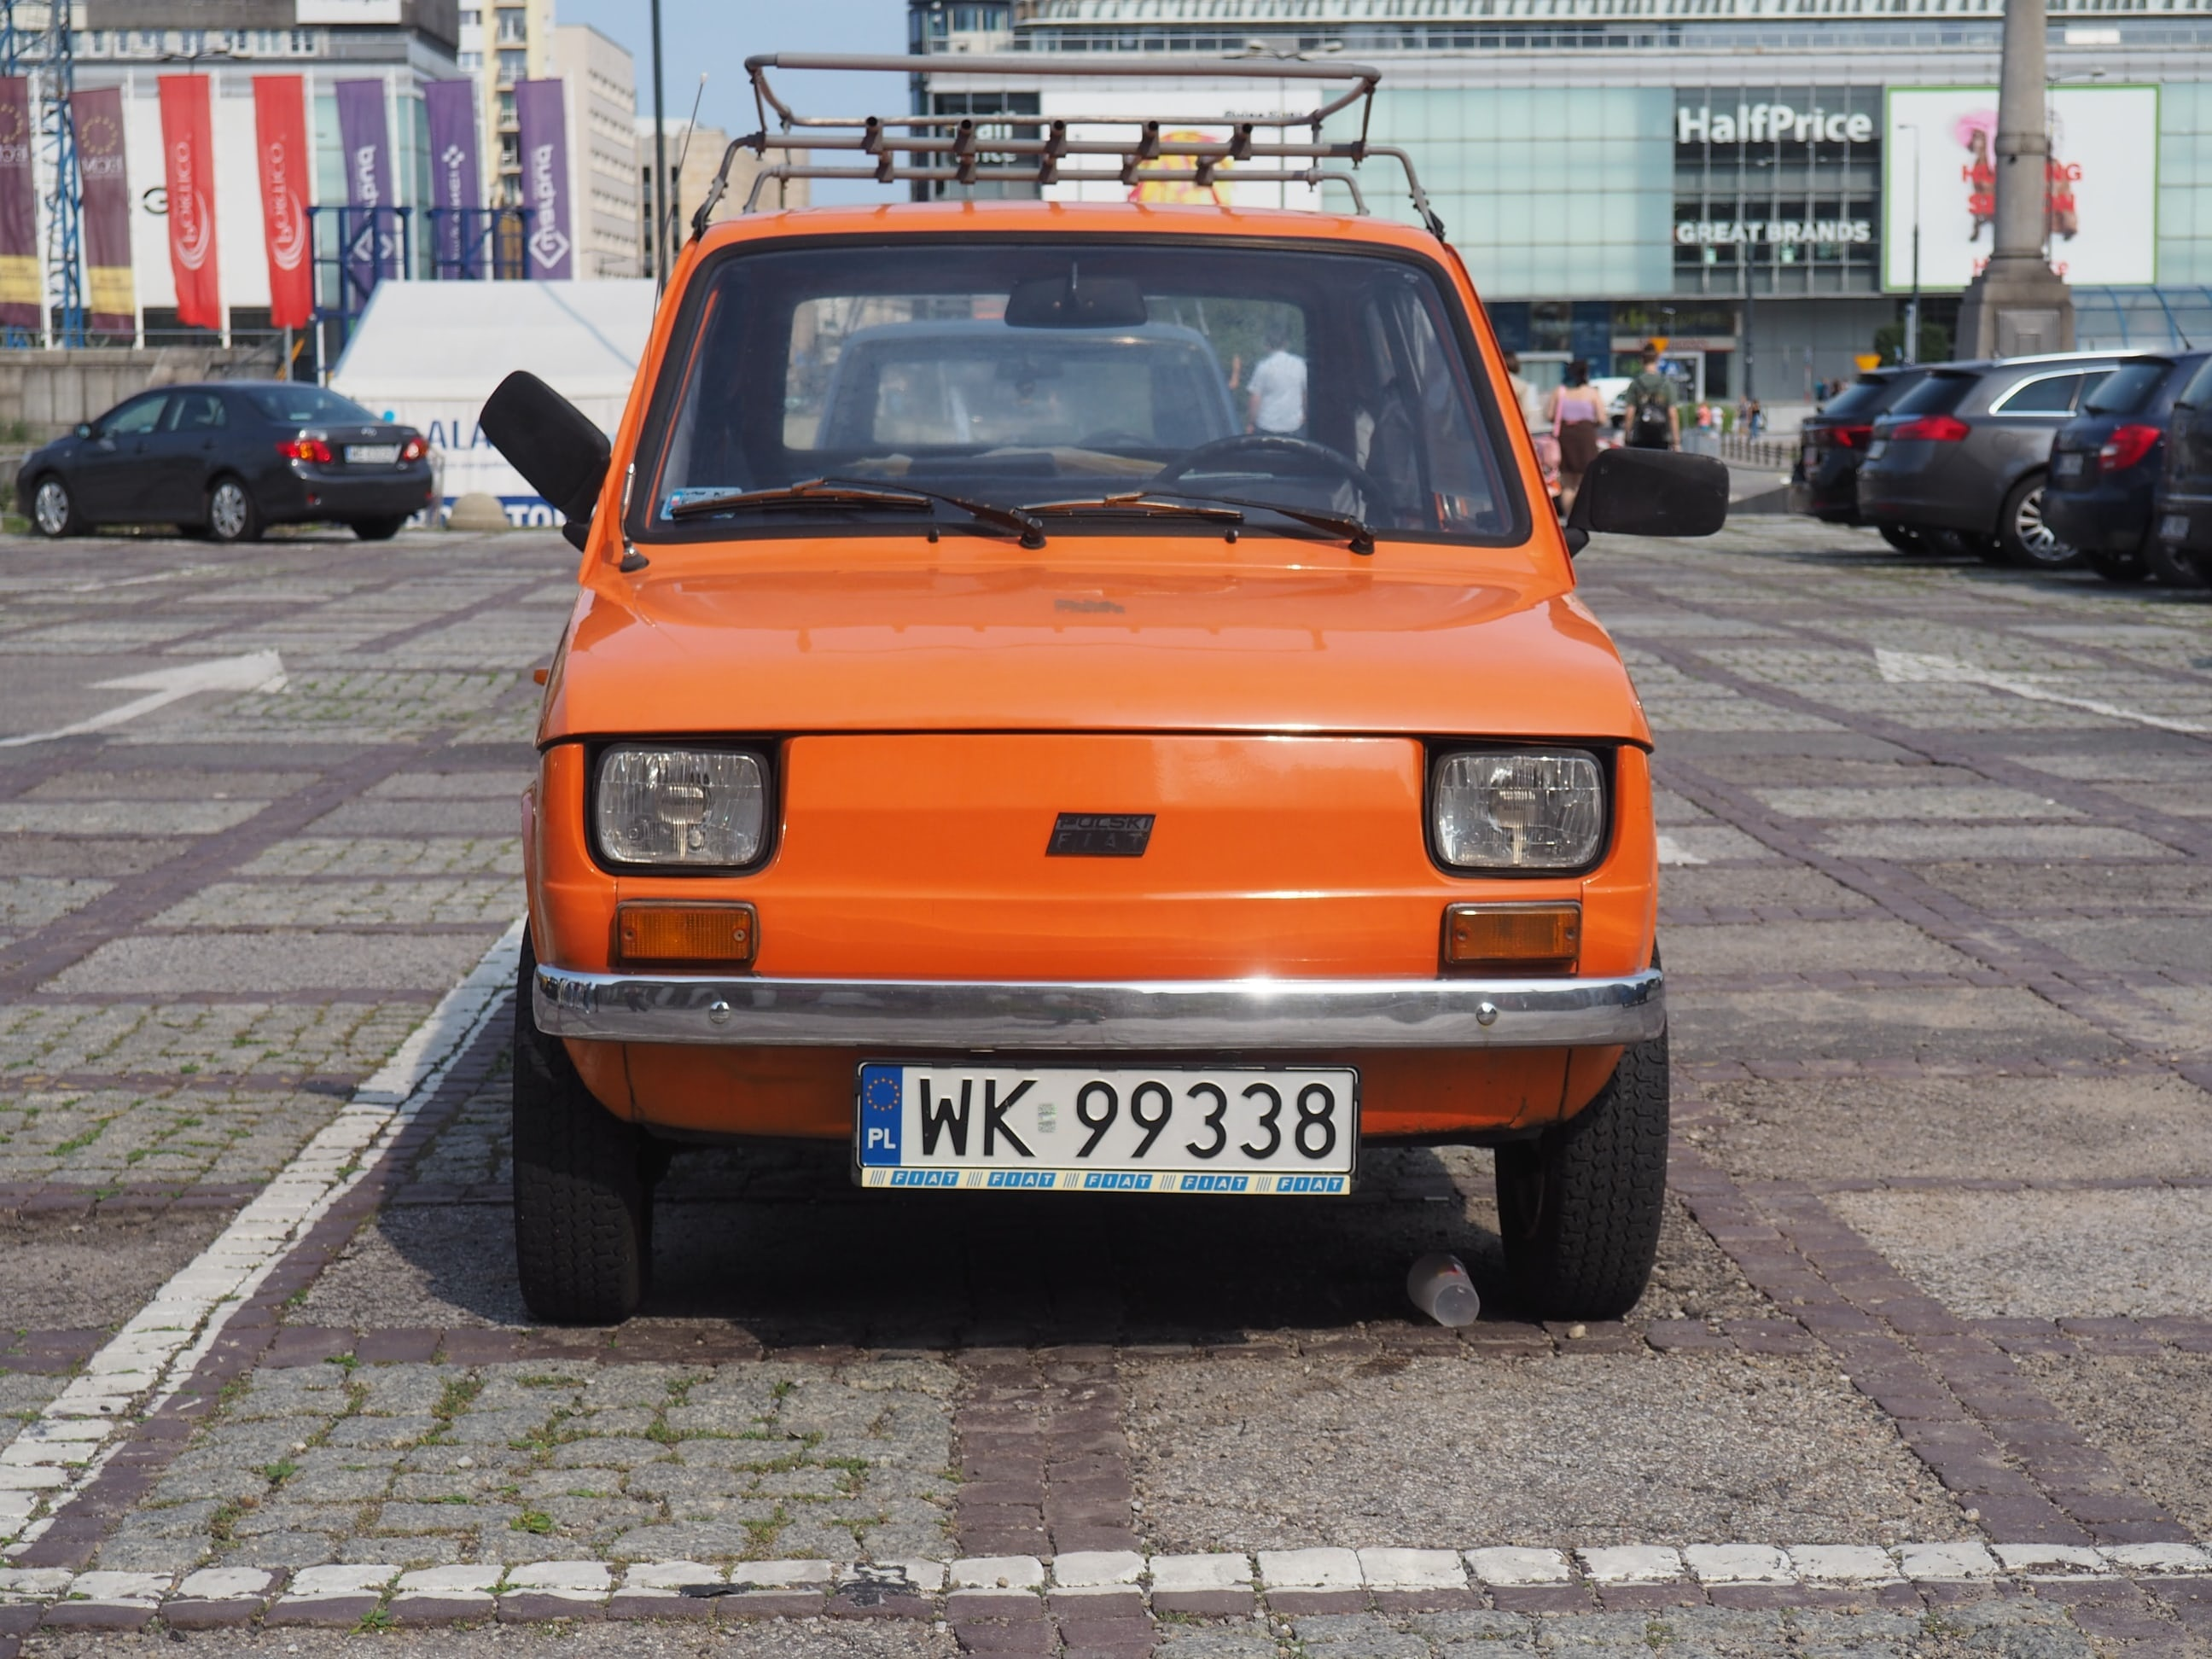plaka: (853, 1057, 1357, 1179)
